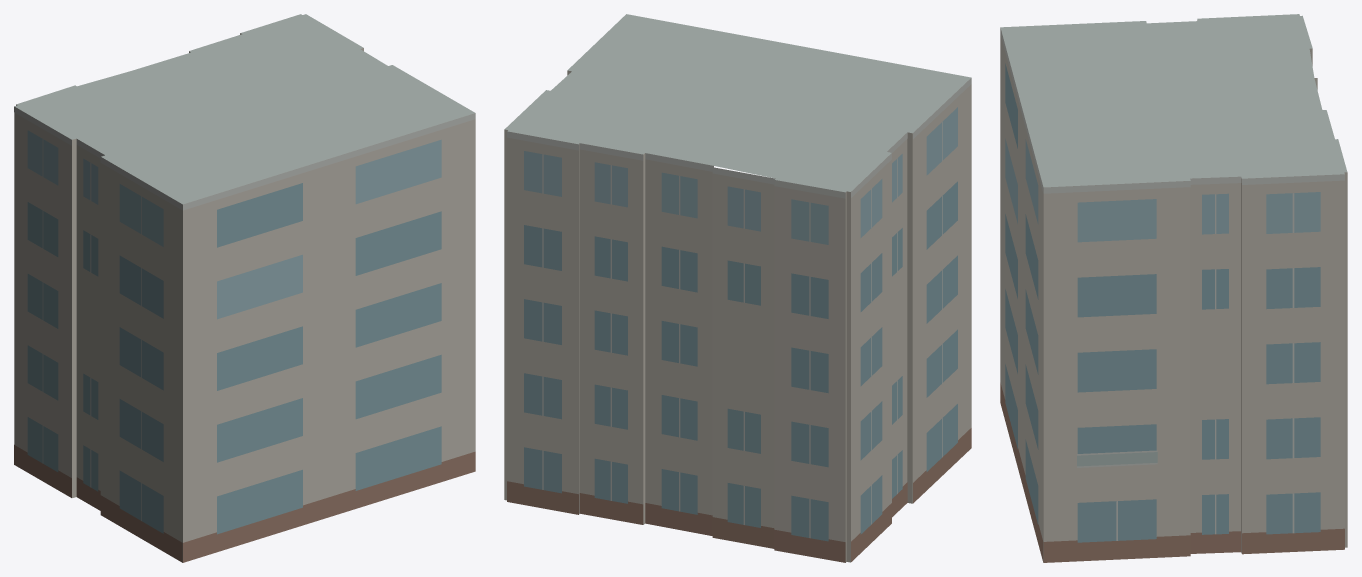
Rendered from survey-upis-32668252.glb.
The picture shows the model from 3 angles, left to right: view 1: azimuth 30°, elevation 25°; view 2: azimuth 150°, elevation 25°; view 3: azimuth 270°, elevation 25°; orthographic projection. The views are drawn at different scales.
Visible parts, largest first — view 1: survey-upis-32668252.tmp; view 2: survey-upis-32668252.tmp; view 3: survey-upis-32668252.tmp.
Part boxes in pixels (box(x1,y1,x2,y2)): survey-upis-32668252.tmp: box(14, 14, 475, 562); survey-upis-32668252.tmp: box(504, 14, 971, 562); survey-upis-32668252.tmp: box(1000, 14, 1347, 562).
Bounding box in the file's own units: 14.28 × 14.4 × 12.08.
